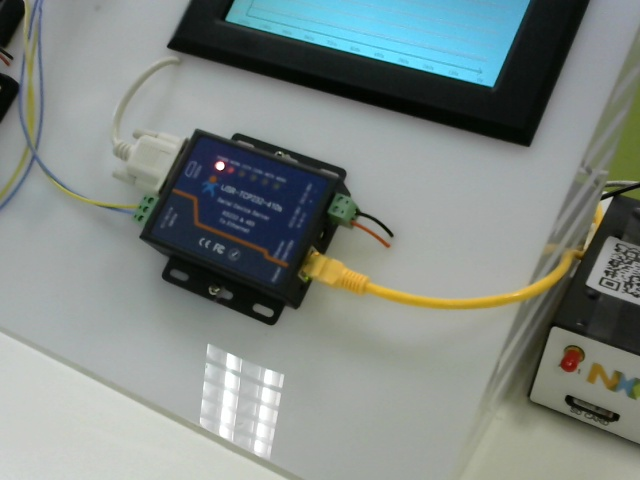modbus bridge: (136, 125, 331, 323)
